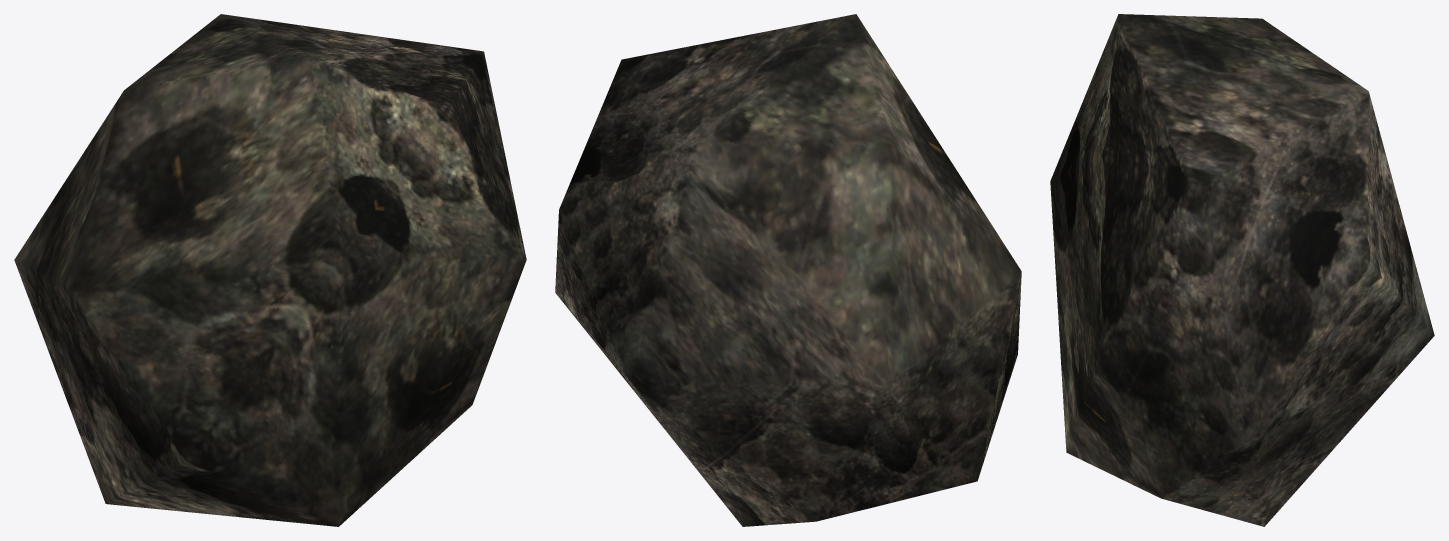
The model's file is stone_09.obj.
3 renders of one model, left to right at view 1: azimuth 30°, elevation 25°; view 2: azimuth 150°, elevation 25°; view 3: azimuth 270°, elevation 25°, orthographic. The views are drawn at different scales.
Parts seen in each view (by area): view 1: (null); view 2: (null); view 3: (null).
Boxes of the visible parts, bbox=[...] form: (null): bbox=[14, 14, 526, 526]; (null): bbox=[555, 14, 1021, 526]; (null): bbox=[1050, 14, 1434, 526].
Size of the model in its own units: 2.11 by 2.23 by 1.58.
